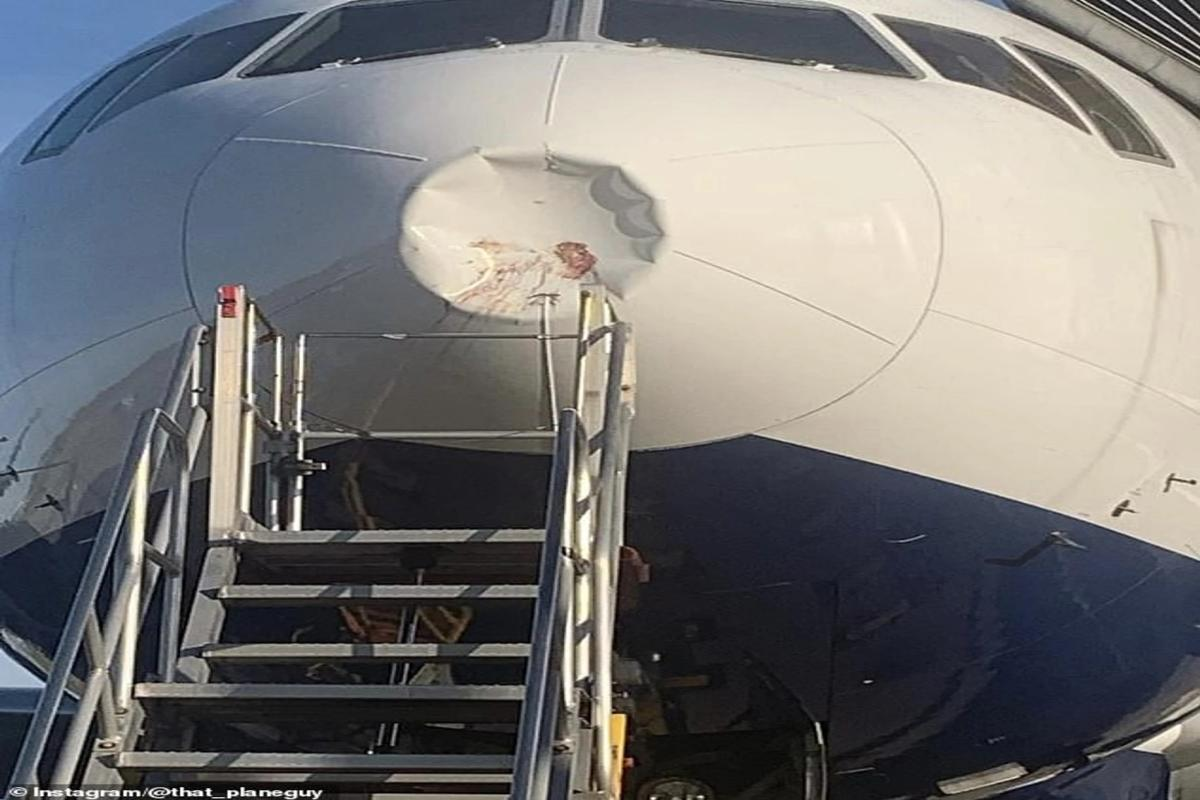Fuselage_damage: (389, 141, 678, 326), (389, 142, 677, 325)
